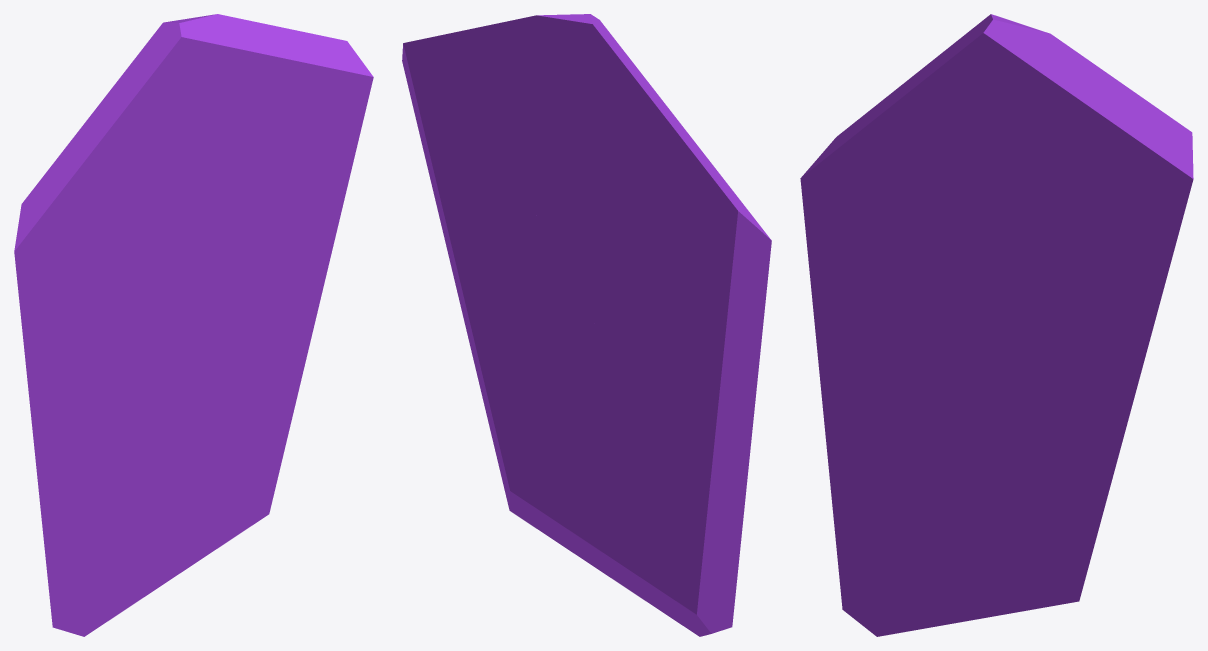
File: Glass_83_0_5_chunks.fbx
3 views of the same model, side by side, from view 1: azimuth 30°, elevation 25°; view 2: azimuth 150°, elevation 25°; view 3: azimuth 330°, elevation 25° (orthographic). The views are drawn at different scales.
Parts seen in each view (by area): view 1: Glass_83_0_5_1, Glass_83_0_5_0, Glass_83_0_5_4, Glass_83_0_5_6, Glass_83_0_5_5, Glass_83_0_5_3; view 2: Glass_83_0_5_1, Glass_83_0_5_0, Glass_83_0_5_5, Glass_83_0_5_2, Glass_83_0_5_3, Glass_83_0_5_6, Glass_83_0_5_4; view 3: Glass_83_0_5_1, Glass_83_0_5_0, Glass_83_0_5_4, Glass_83_0_5_6, Glass_83_0_5_5, Glass_83_0_5_3.
Boxes of the visible parts, x1,y1,x2,y2 form: Glass_83_0_5_1: (14, 14, 350, 303); Glass_83_0_5_0: (19, 298, 246, 636); Glass_83_0_5_4: (229, 245, 333, 528); Glass_83_0_5_6: (200, 44, 373, 281); Glass_83_0_5_5: (173, 265, 260, 475); Glass_83_0_5_3: (296, 118, 363, 253); Glass_83_0_5_1: (403, 14, 771, 297); Glass_83_0_5_0: (533, 294, 766, 636); Glass_83_0_5_5: (493, 247, 595, 514); Glass_83_0_5_2: (592, 284, 754, 347); Glass_83_0_5_3: (407, 61, 508, 288); Glass_83_0_5_6: (402, 45, 560, 262); Glass_83_0_5_4: (444, 236, 537, 525); Glass_83_0_5_1: (800, 14, 1192, 313); Glass_83_0_5_0: (806, 238, 1054, 636); Glass_83_0_5_4: (1036, 330, 1149, 605); Glass_83_0_5_6: (1003, 136, 1193, 342); Glass_83_0_5_5: (974, 292, 1069, 538); Glass_83_0_5_3: (1109, 219, 1182, 341).
Bounding box in the file's own units: 444 × 690 × 27.2.
